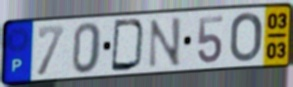0: (71, 20, 103, 75)
5: (197, 14, 226, 65)
7: (37, 23, 67, 77)
D: (109, 18, 147, 73)
N: (146, 15, 183, 70)
O: (228, 11, 264, 64)
